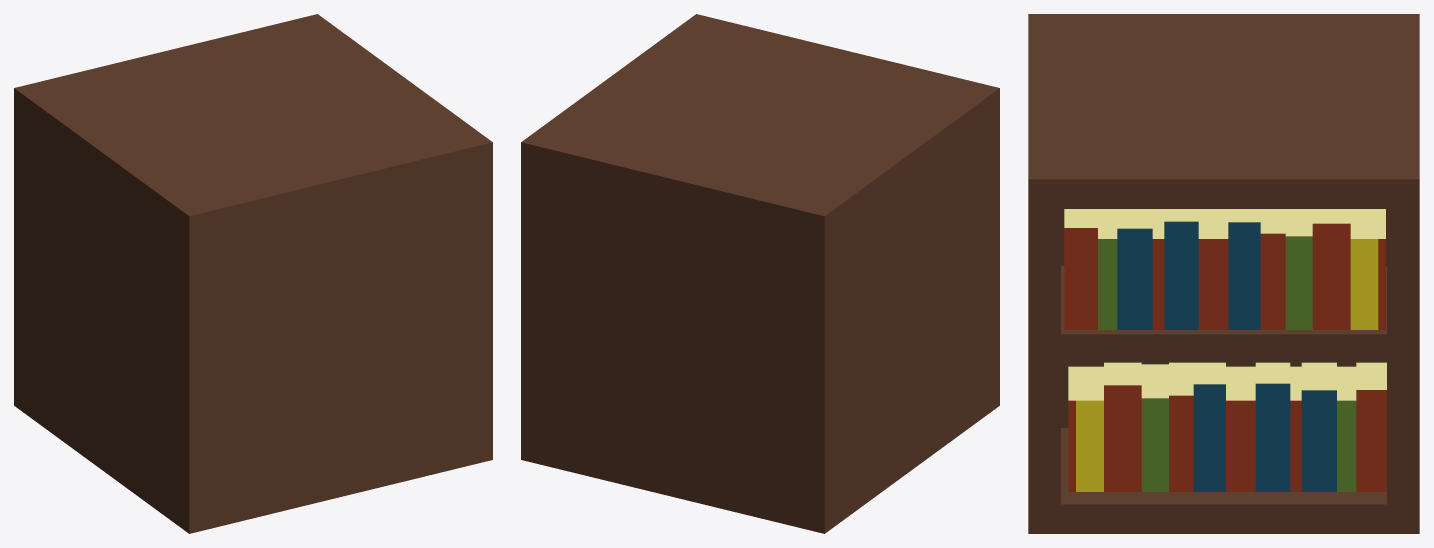
The model's file is bookshelfTile.glb.
The picture shows the model from 3 angles, left to right: view 1: azimuth 30°, elevation 25°; view 2: azimuth 150°, elevation 25°; view 3: azimuth 270°, elevation 25°; orthographic projection. The views are drawn at different scales.
Parts seen in each view (by area): view 1: Cube; view 2: Cube; view 3: Cube.
Part boxes in pixels (left/top/right/bottom): Cube: left=14, top=14, right=492, bottom=533; Cube: left=521, top=14, right=999, bottom=533; Cube: left=1028, top=14, right=1419, bottom=533.
Bounding box in the file's own units: 1 × 1 × 1.
Materials: 1 (1 with a texture image).
